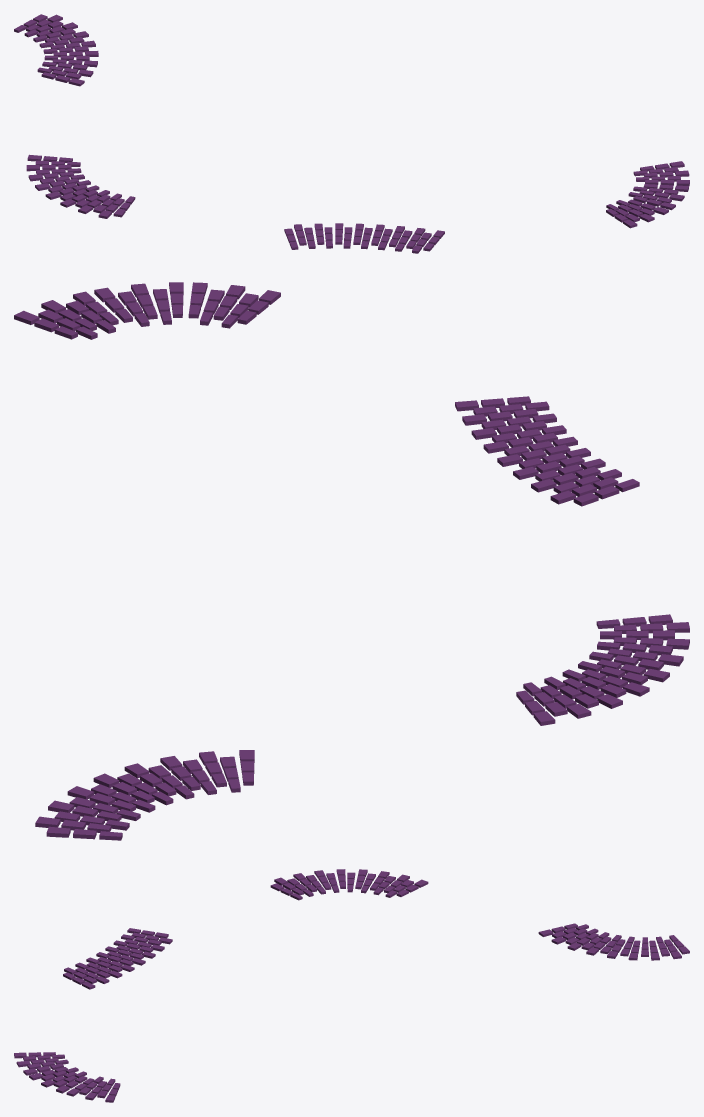
Rendered from StoneRoad.fbx.
3 renders of one model, top to bottom at view 1: azimuth 30°, elevation 25°; view 2: azimuth 150°, elevation 25°; view 3: azimuth 270°, elevation 25°, orthographic. The views are drawn at different scales.
Visible parts, largest first — view 1: Cube.007; view 2: Cube.007; view 3: Cube.007.
Part boxes in pixels (x1,y1,x2,y2): Cube.007: (14, 14, 689, 253); Cube.007: (14, 282, 689, 840); Cube.007: (14, 869, 689, 1102).
Size of the model in its own units: 5620 by 24.72 by 6935.
